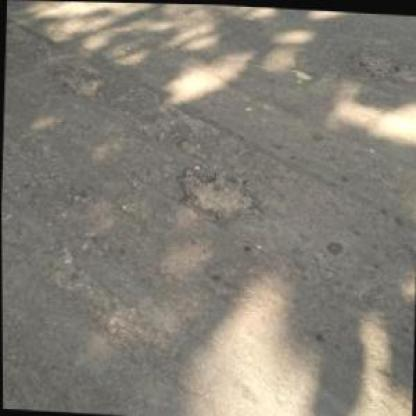pothole: (174, 164, 260, 222)
